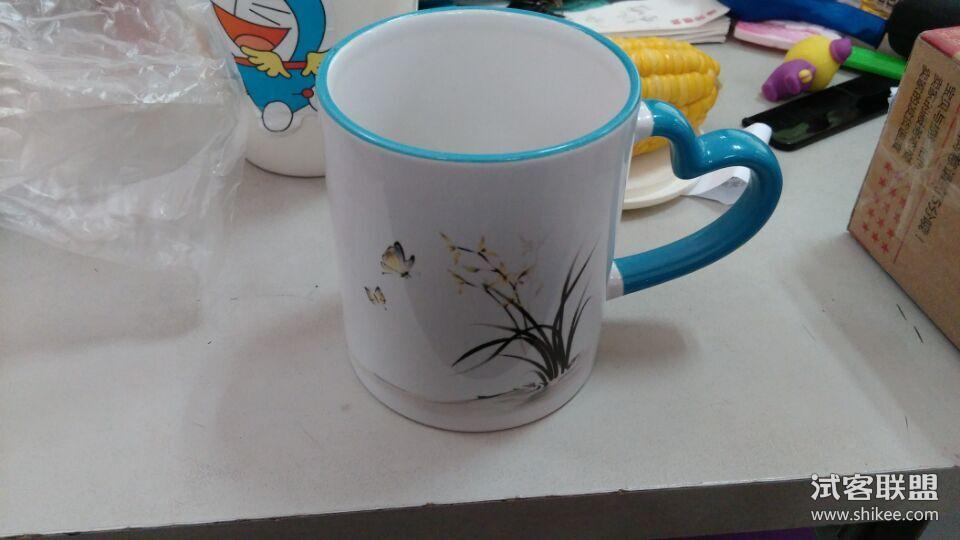cup: (316, 4, 787, 437)
